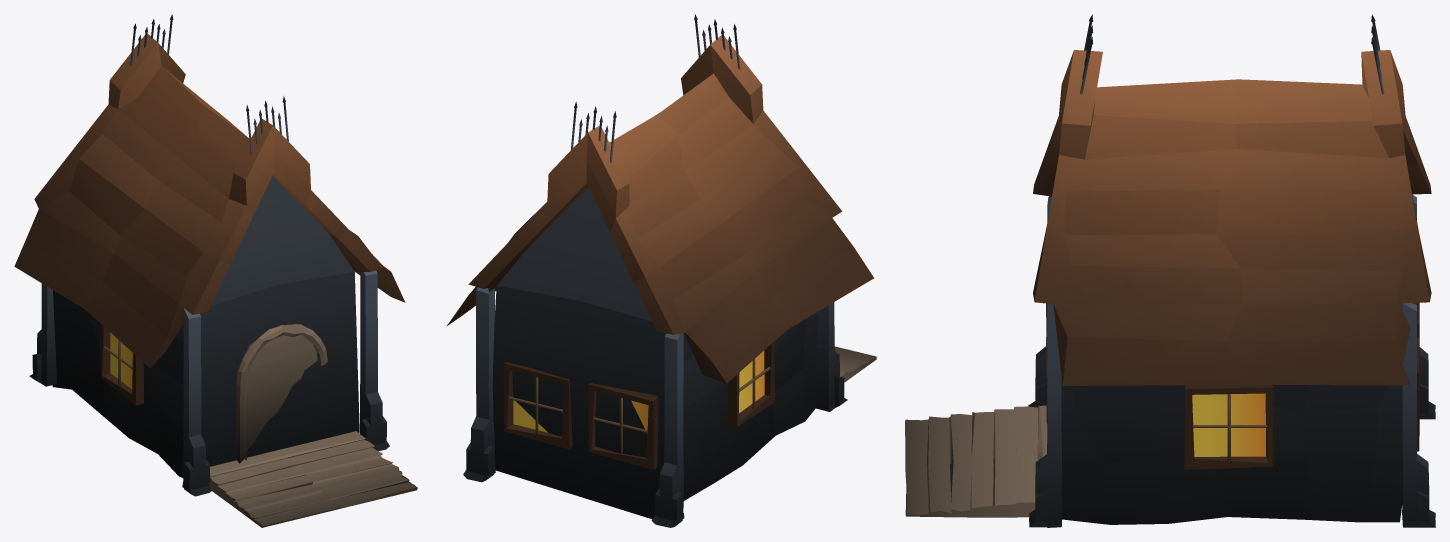
File: lil_church.fbx
The picture shows the model from 3 angles, left to right: view 1: azimuth 30°, elevation 25°; view 2: azimuth 150°, elevation 25°; view 3: azimuth 270°, elevation 25°; orthographic projection. The views are drawn at different scales.
Visible parts, largest first — view 1: Cube, Cube.008, Cylinder.005, Cube.005, Cube.004, Cube.013, Cube.003; view 2: Cube, Cube.003, Cube.002, Cube.016, Cube.017, Cube.013, Cube.005, Cube.008; view 3: Cube, Cube.008, Cube.014, Cube.002, Cube.004, Cube.003, Cube.005.
Boxes of the visible parts, <box> form: Cube: <box>14,33,405,477</box>; Cube.008: <box>209,431,417,527</box>; Cylinder.005: <box>236,324,327,463</box>; Cube.005: <box>182,308,212,496</box>; Cube.004: <box>360,270,389,451</box>; Cube.013: <box>100,324,143,405</box>; Cube.003: <box>29,283,56,386</box>; Cube: <box>446,35,873,519</box>; Cube.003: <box>651,333,684,527</box>; Cube.002: <box>463,287,495,482</box>; Cube.016: <box>503,362,572,449</box>; Cube.017: <box>588,383,658,470</box>; Cube.013: <box>727,342,774,426</box>; Cube.005: <box>815,302,847,411</box>; Cube.008: <box>834,346,876,382</box>; Cube: <box>1033,50,1431,524</box>; Cube.008: <box>905,405,1047,517</box>; Cube.014: <box>1184,385,1275,469</box>; Cube.002: <box>1402,303,1435,527</box>; Cube.004: <box>1029,303,1061,527</box>; Cube.003: <box>1412,194,1435,419</box>; Cube.005: <box>1028,196,1051,407</box>.
Size of the model in its own units: 857 by 1131 by 1206.
Materials: 1 (1 with a texture image).
